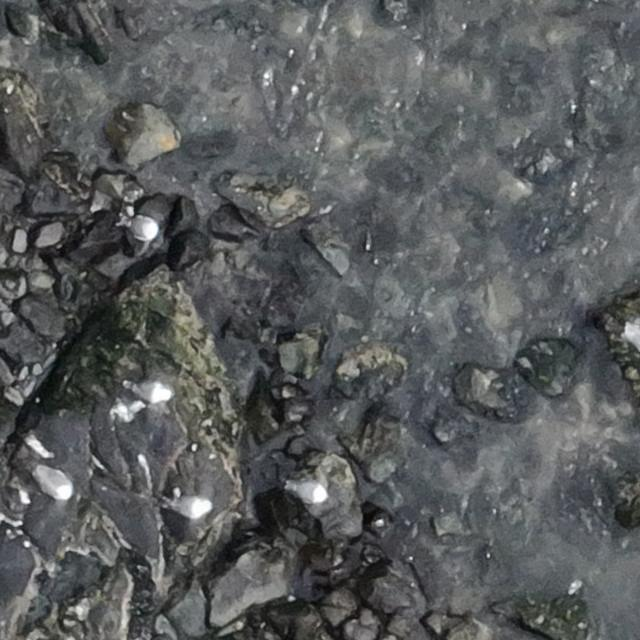umineko: (34, 463, 72, 500), (123, 216, 158, 242), (168, 497, 213, 517), (128, 380, 168, 400), (288, 482, 328, 502)
